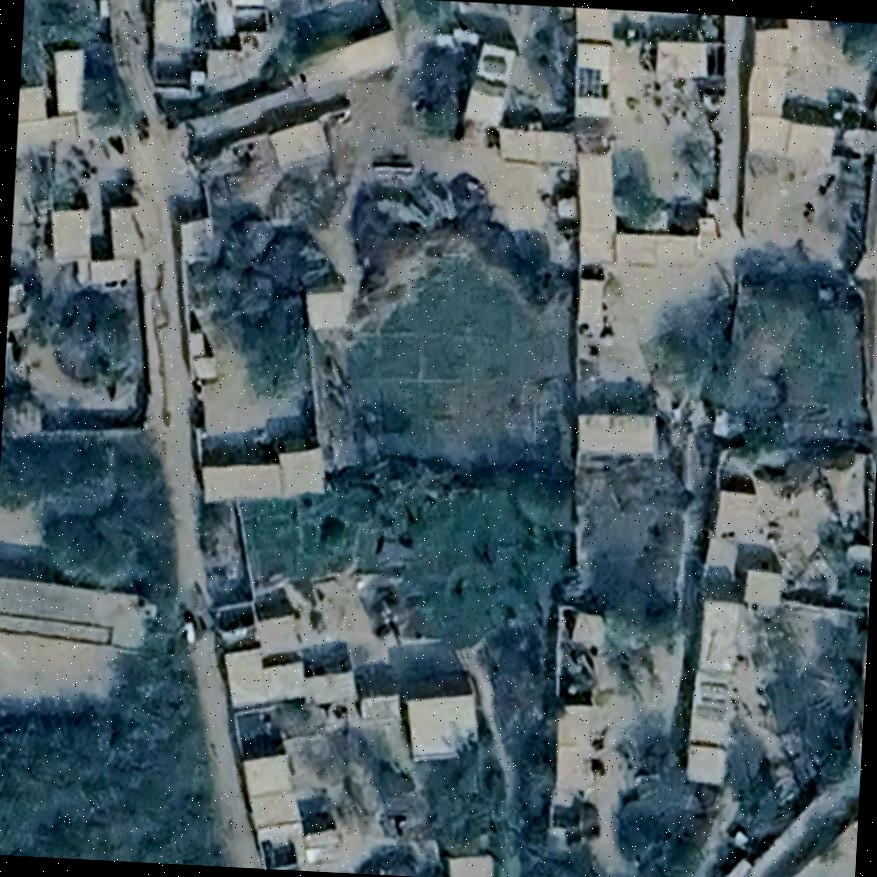Solarpanel: (574, 66, 600, 98), (479, 56, 506, 75), (693, 705, 723, 722), (700, 683, 724, 700)
